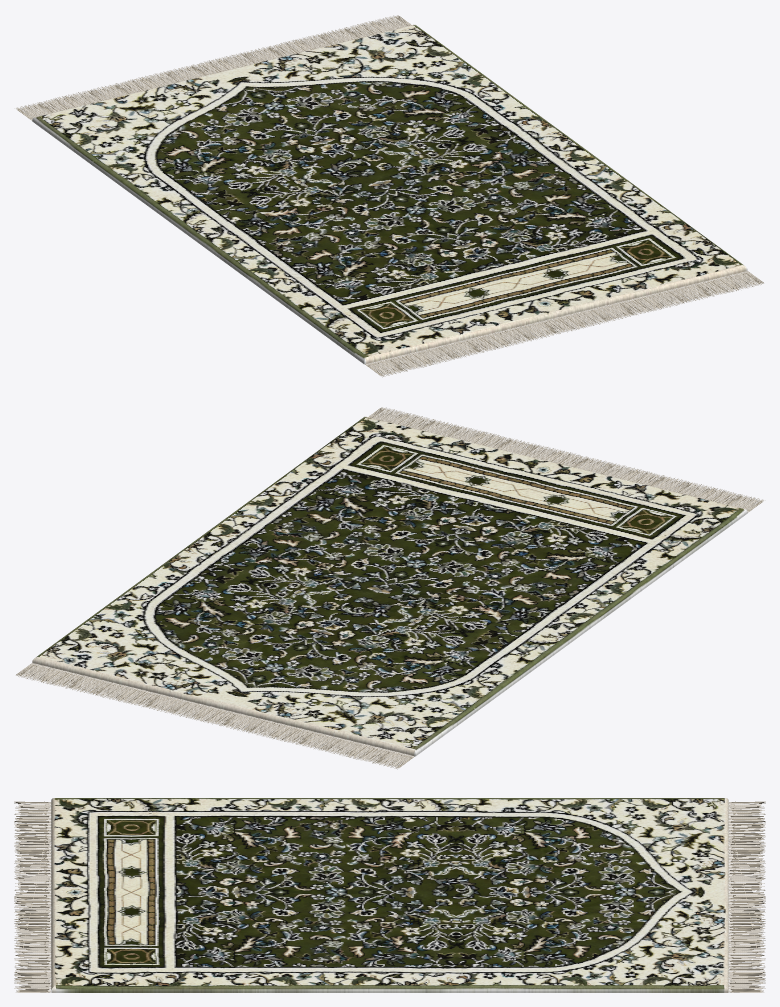
3 renders of one model, top to bottom at view 1: azimuth 30°, elevation 25°; view 2: azimuth 150°, elevation 25°; view 3: azimuth 270°, elevation 25°, orthographic. The views are drawn at different scales.
Parts seen in each view (by area): view 1: k16; view 2: k16; view 3: k16.
Part boxes in pixels (bbox=[...]): k16: bbox=[16, 15, 763, 377]; k16: bbox=[16, 407, 763, 769]; k16: bbox=[14, 798, 765, 992].
Size of the model in its own units: 0.8 by 0.0105 by 1.33.
3 materials, 2 textured.
